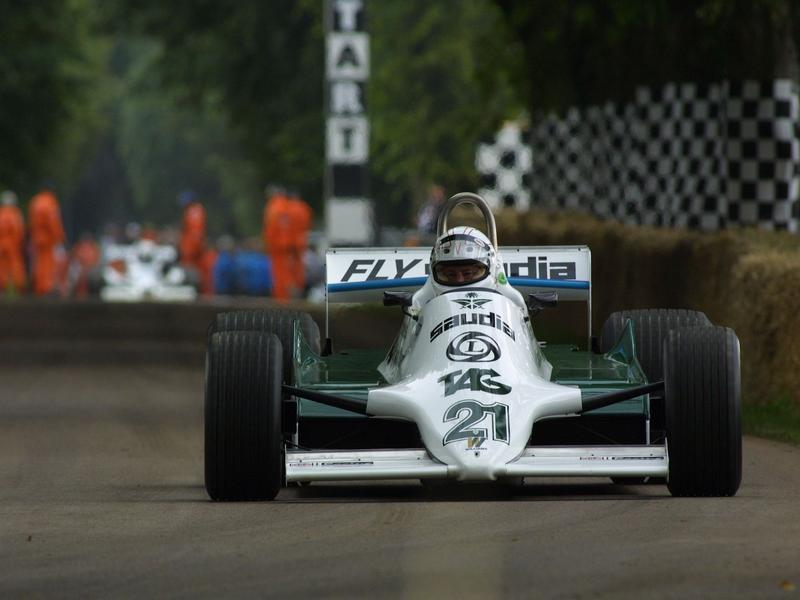f1: (213, 204, 787, 516)
